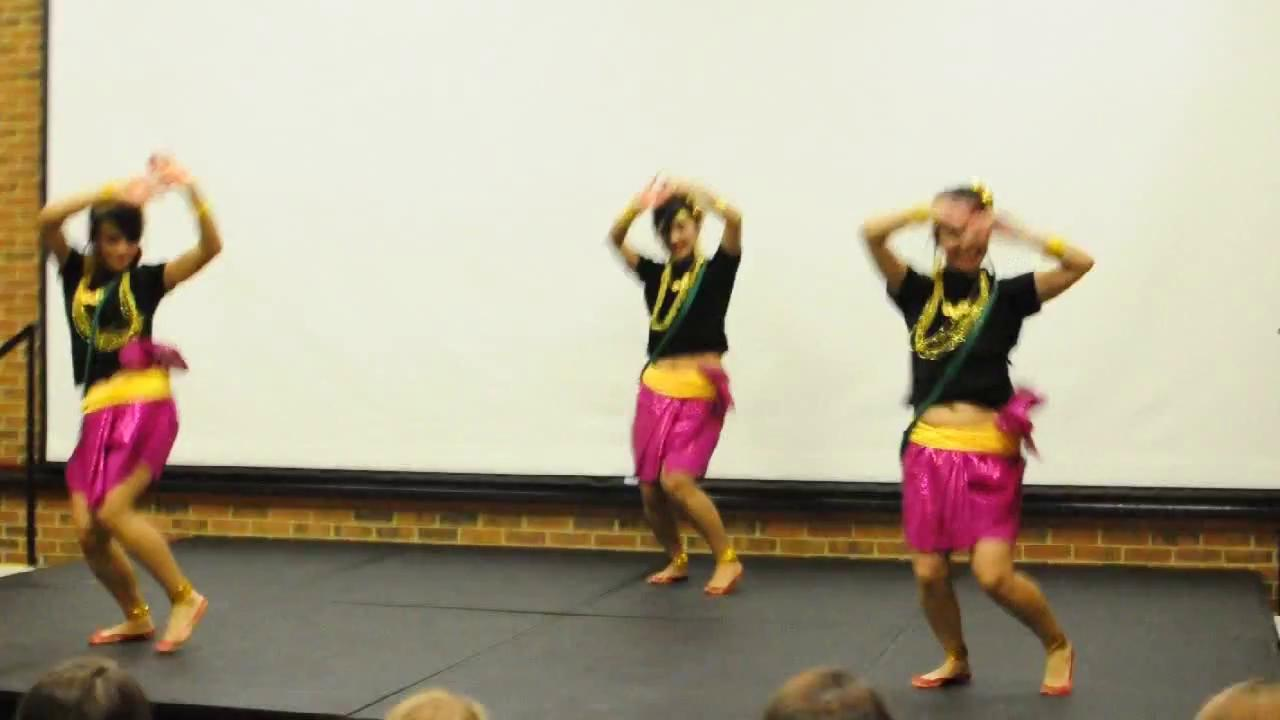victim: (858, 185, 1096, 700), (65, 150, 230, 664), (593, 169, 753, 606)
